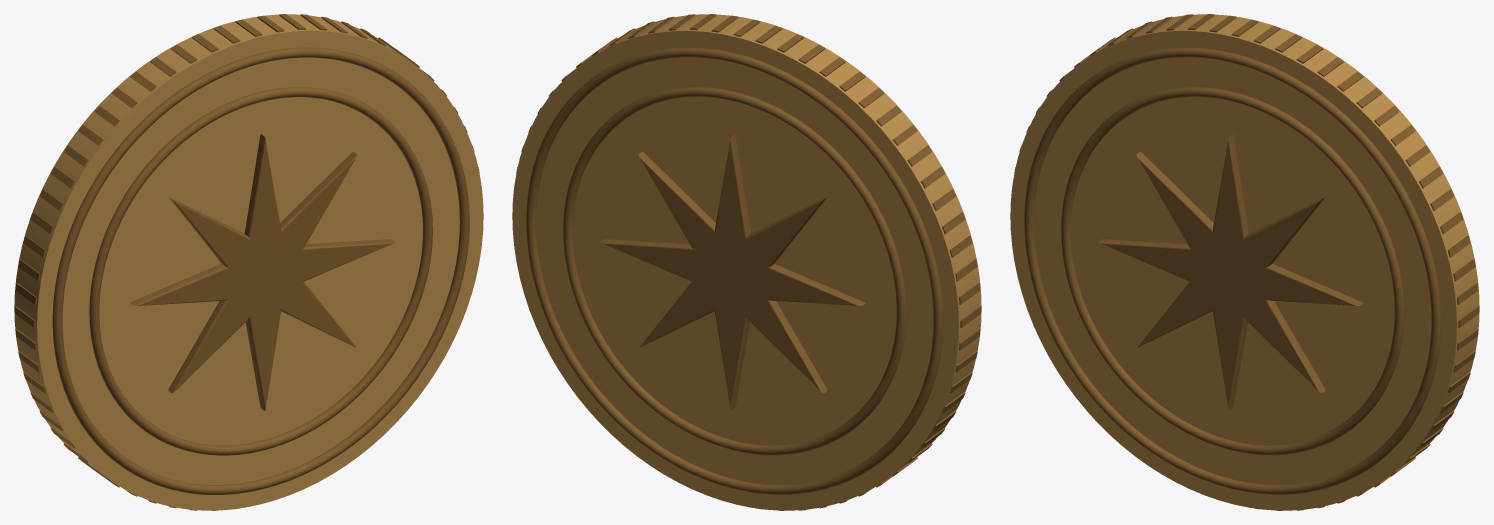
File: compass.glb
3 views of the same model, side by side, from view 1: azimuth 30°, elevation 25°; view 2: azimuth 150°, elevation 25°; view 3: azimuth 330°, elevation 25° (orthographic).
Size of the model in its own units: 1.83 by 1.83 by 0.2355.
